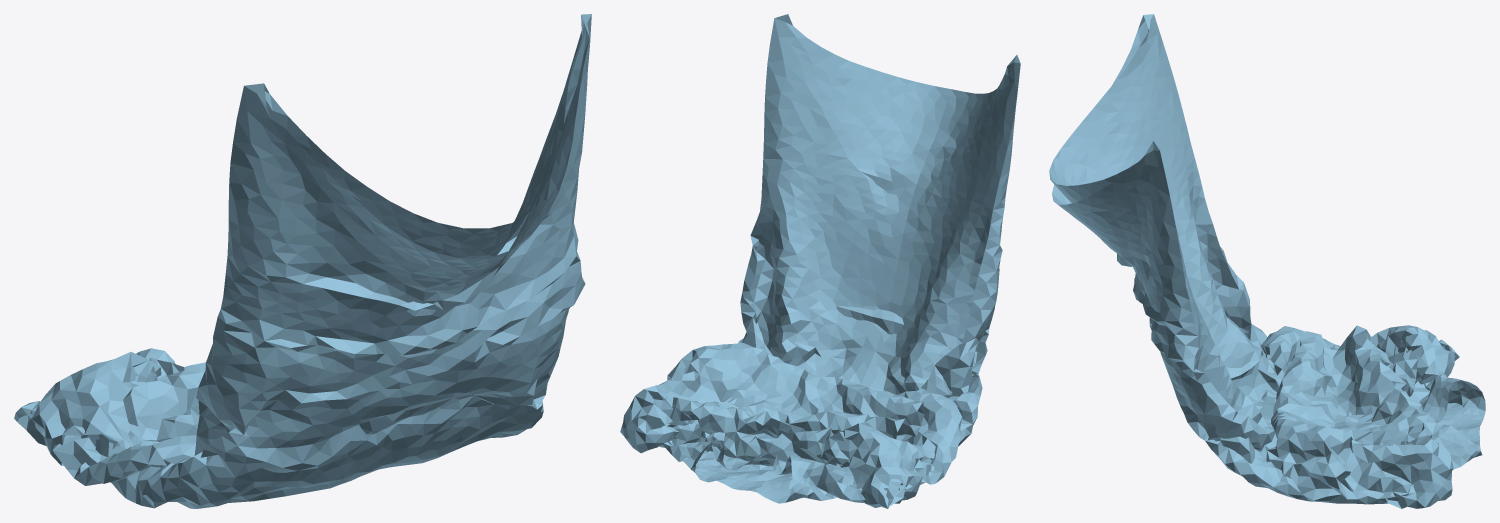
Rendered from frame_09.glb.
The picture shows the model from 3 angles, left to right: view 1: azimuth 30°, elevation 25°; view 2: azimuth 150°, elevation 25°; view 3: azimuth 270°, elevation 25°; orthographic projection. The views are drawn at different scales.
Visible parts, largest first — view 1: frame_09.obj; view 2: frame_09.obj; view 3: frame_09.obj.
Boxes of the visible parts, box(x1,y1,x2,y2) form: frame_09.obj: box(14, 14, 591, 508); frame_09.obj: box(620, 14, 1020, 508); frame_09.obj: box(1049, 14, 1485, 508).
Size of the model in its own units: 0.9391 by 1.09 by 1.17.
